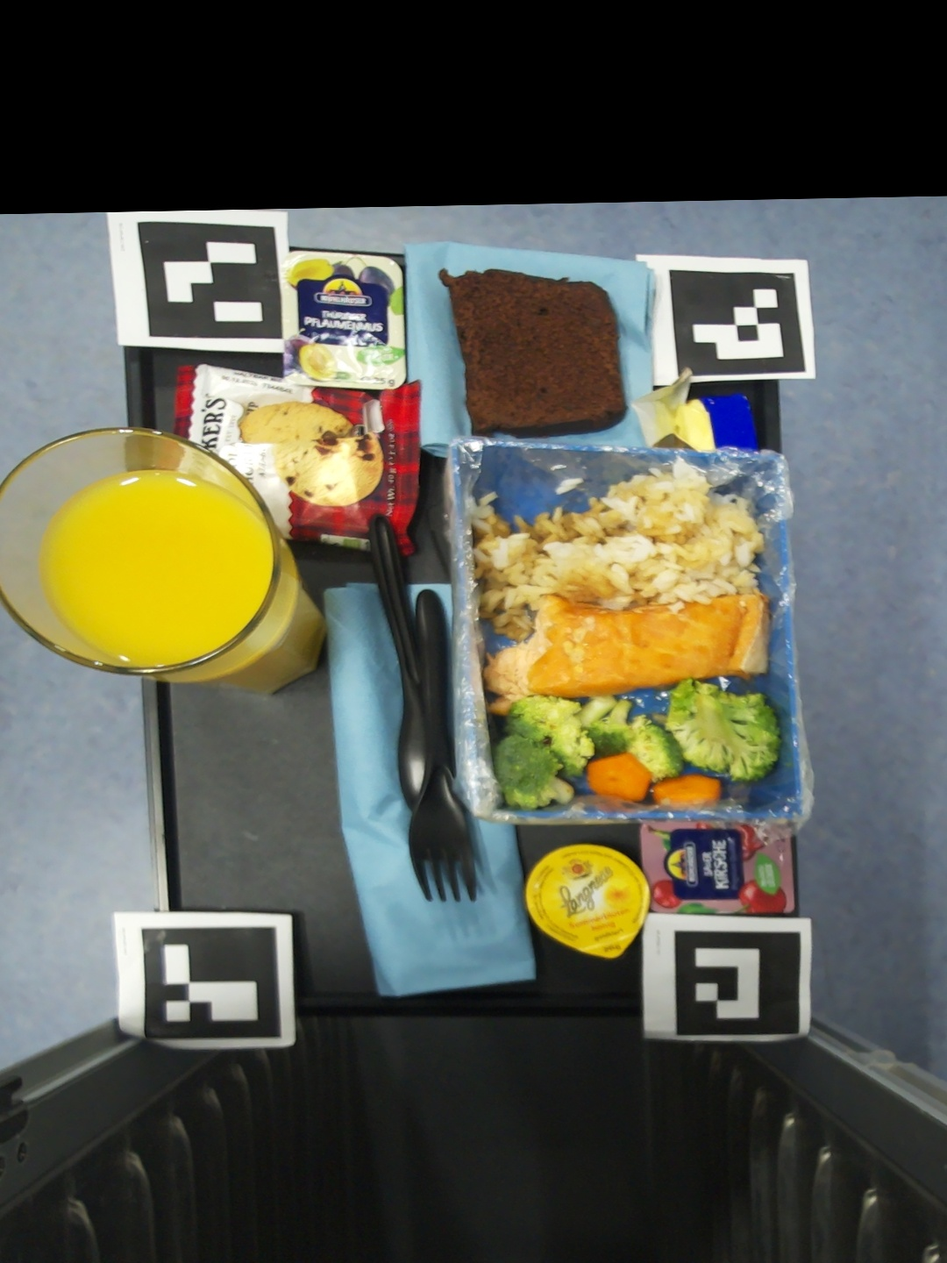broccoli: (493, 677, 782, 809)
brownie: (439, 269, 625, 439)
butter: (630, 366, 759, 451)
carrots: (587, 753, 651, 802), (651, 775, 723, 805)
cherry_jam: (641, 821, 794, 913)
cookie: (174, 363, 420, 556)
fish_salmon: (482, 587, 769, 716)
honey: (526, 845, 650, 957)
orange_juice_bottle: (1, 429, 325, 695)
plum_jam: (281, 251, 406, 389)
rice: (471, 459, 765, 642), (555, 478, 584, 494)
